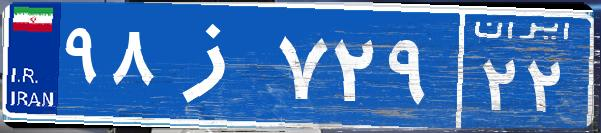2: (330, 28, 385, 110), (475, 38, 525, 113), (525, 38, 570, 115)
7: (273, 28, 330, 110)
8: (110, 28, 158, 105)
9: (385, 28, 445, 110), (57, 26, 110, 107)
ز: (158, 15, 273, 115)
